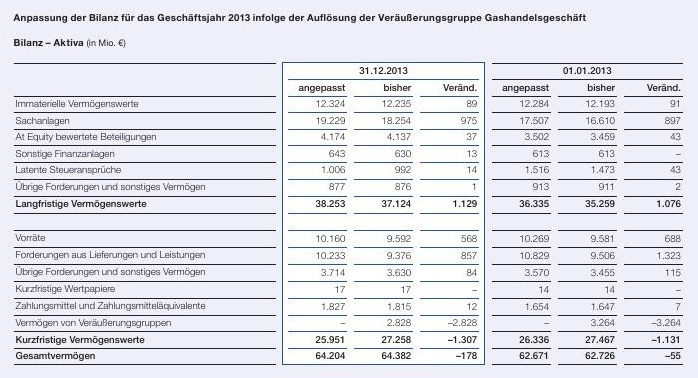table: (0, 0, 698, 378)
